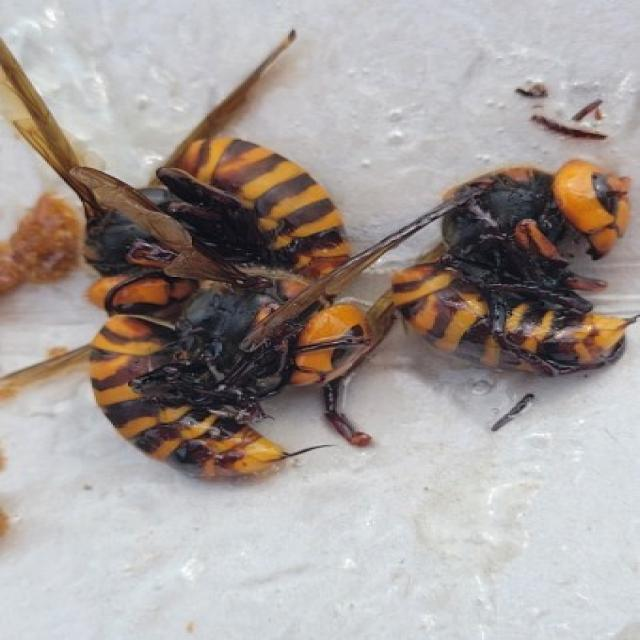Wasp: (402, 143, 632, 396), (175, 117, 371, 390)
